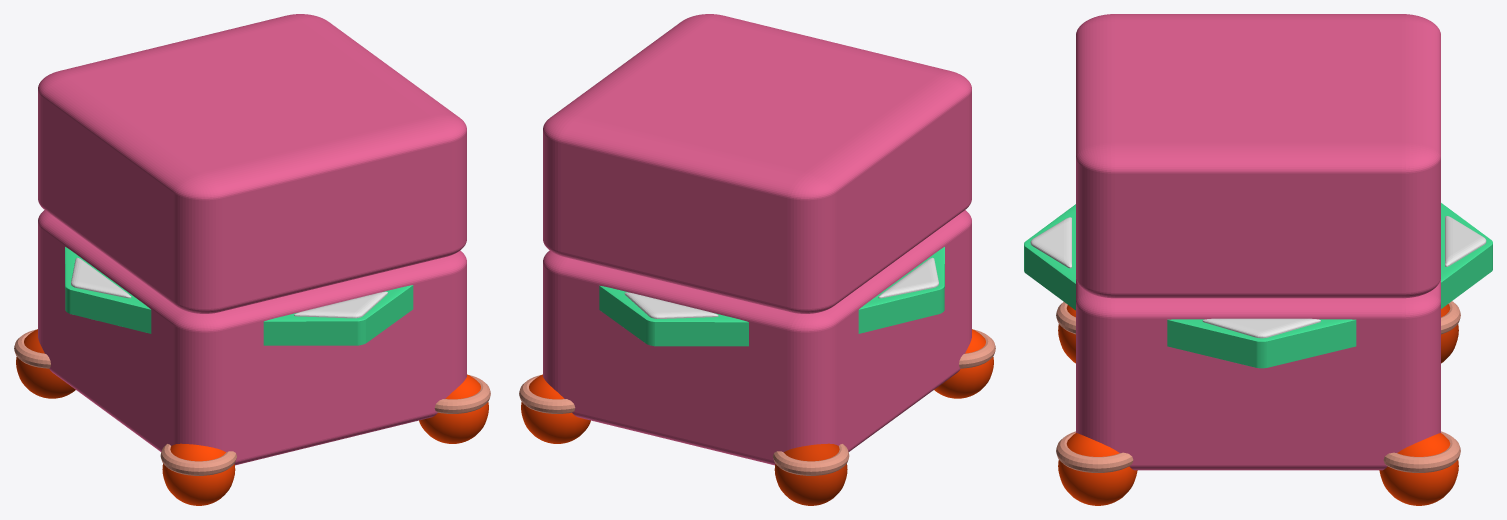
File: Wagon.fbx
3 renders of one model, left to right at view 1: azimuth 30°, elevation 25°; view 2: azimuth 150°, elevation 25°; view 3: azimuth 270°, elevation 25°, orthographic. The views are drawn at different scales.
Parts seen in each view (by area): view 1: Cap, Wagon, Direction3, Direction, Ball2, Ball1, Ball3; view 2: Cap, Wagon, Direction2, Direction, Ball3, Ball, Ball2; view 3: Cap, Wagon, Direction1, Direction3, Direction2, Ball, Ball1, Ball3.
Part boxes in pixels (x1=…): Cap: x1=38, y1=14, x2=466, y2=313; Wagon: x1=14, y1=210, x2=490, y2=475; Direction3: x1=263, y1=285, x2=413, y2=345; Direction: x1=65, y1=247, x2=151, y2=333; Ball2: x1=162, y1=443, x2=235, y2=505; Ball1: x1=419, y1=374, x2=488, y2=443; Ball3: x1=16, y1=329, x2=75, y2=398; Cap: x1=543, y1=14, x2=971, y2=313; Wagon: x1=519, y1=210, x2=995, y2=475; Direction2: x1=599, y1=285, x2=748, y2=346; Direction: x1=858, y1=247, x2=944, y2=333; Ball3: x1=774, y1=443, x2=847, y2=505; Ball: x1=521, y1=374, x2=590, y2=443; Ball2: x1=934, y1=329, x2=993, y2=398; Cap: x1=1076, y1=14, x2=1440, y2=298; Wagon: x1=1056, y1=279, x2=1460, y2=472; Direction1: x1=1167, y1=318, x2=1356, y2=368; Direction3: x1=1024, y1=204, x2=1075, y2=310; Direction2: x1=1441, y1=203, x2=1492, y2=308; Ball: x1=1379, y1=433, x2=1458, y2=505; Ball1: x1=1058, y1=433, x2=1137, y2=505; Ball3: x1=1441, y1=304, x2=1458, y2=363.
Bounding box in the file's own units: 257 × 213 × 257.
